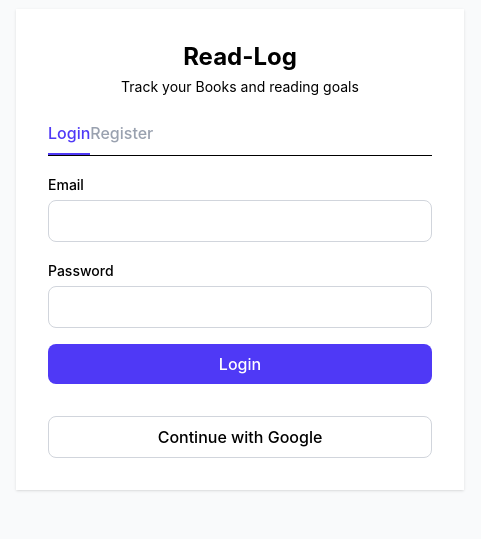
Test: Login page › shows an error for an invalid email
This screenshot has width=481, height=539.
Type "test@example.com" into the field labelled "Email" at (240, 220), box [48,200,432,242]
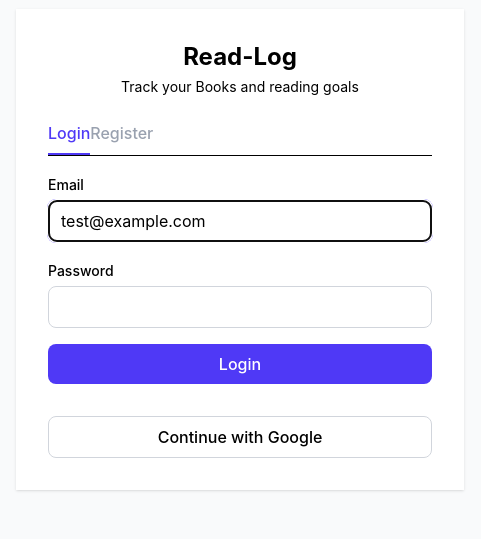
Type "secret123" into the password field labelled "Password" at (240, 306), box [48,286,432,328]
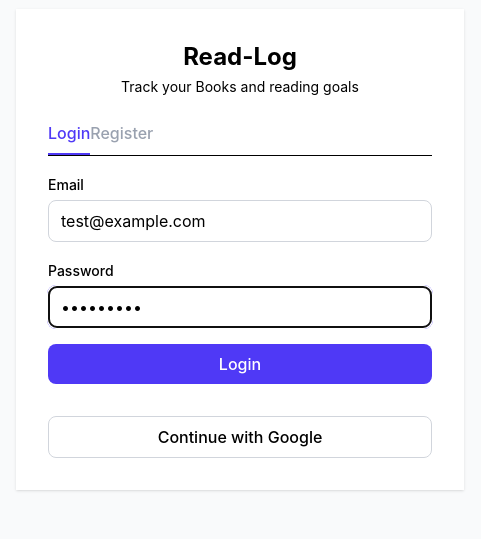
Click the button "Login" at (240, 364), box [48,344,432,384]
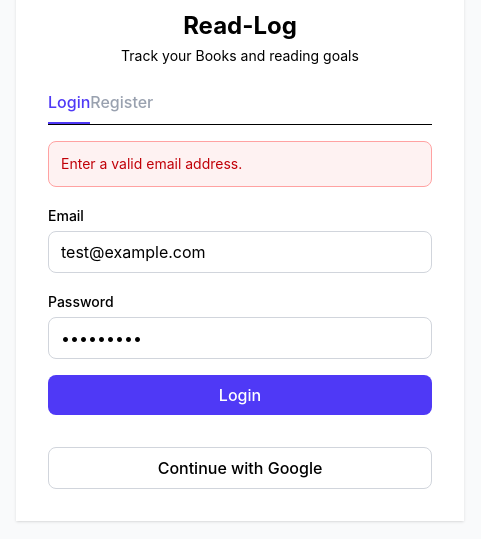
Expected: the text "Enter a valid email address." is shown, [48,140,432,186]
